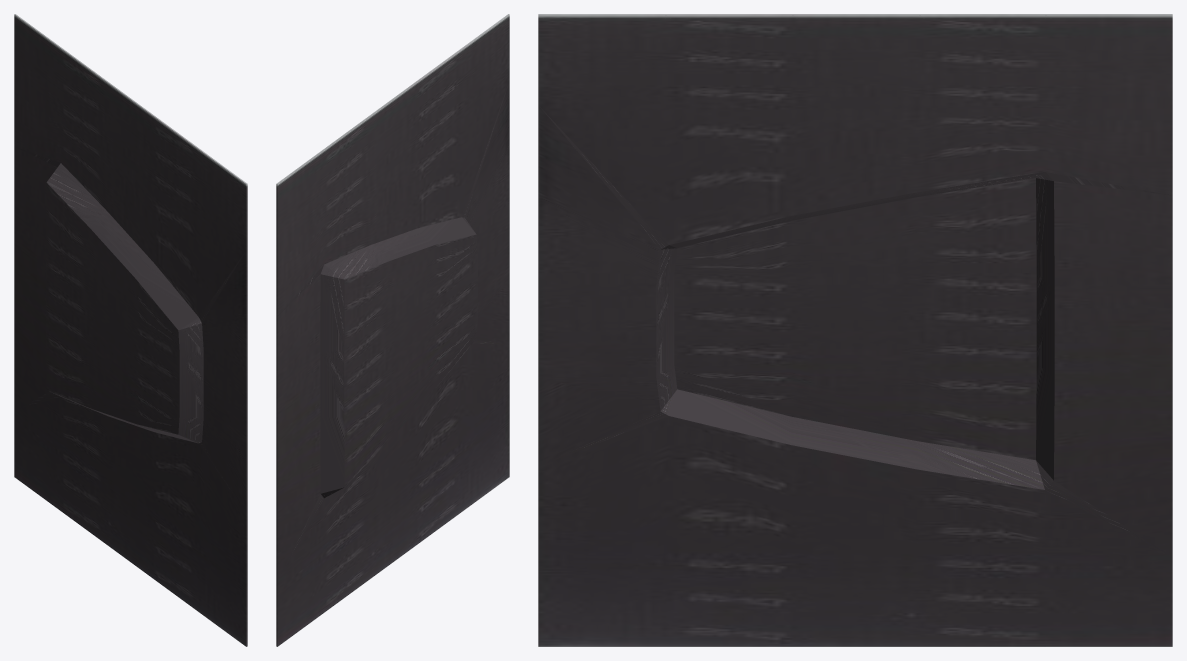
The model's file is krishka.FBX.
The picture shows the model from 3 angles, left to right: view 1: azimuth 30°, elevation 25°; view 2: azimuth 150°, elevation 25°; view 3: azimuth 270°, elevation 25°; orthographic projection. The views are drawn at different scales.
Parts seen in each view (by area): view 1: Lid001; view 2: Lid001; view 3: Lid001.
Boxes of the visible parts, box(x1,y1,x2,y2) form: Lid001: box(14, 14, 247, 646); Lid001: box(276, 14, 509, 646); Lid001: box(538, 14, 1172, 646).
Bounding box in the file's own units: 1.42 × 33 × 30.
1 material, 1 textured.
